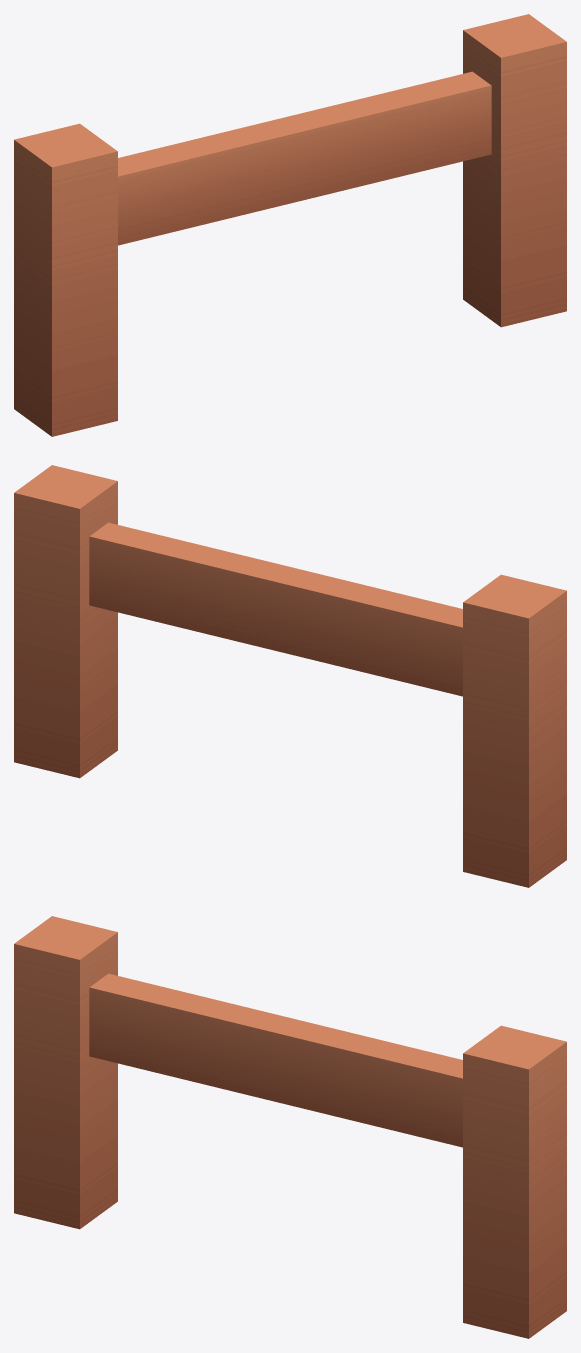
File: tower-defense-kit--wood-structure-part.glb
3 renders of one model, top to bottom at view 1: azimuth 30°, elevation 25°; view 2: azimuth 150°, elevation 25°; view 3: azimuth 330°, elevation 25°, orthographic.
Visible parts, largest first — view 1: wood-structure-part; view 2: wood-structure-part; view 3: wood-structure-part.
Boxes of the visible parts, x1,y1,x2,y2 form: wood-structure-part: [14, 14, 566, 436]; wood-structure-part: [14, 465, 566, 887]; wood-structure-part: [14, 916, 566, 1338].
Bounding box in the file's own units: 1 × 0.5 × 0.128.
Materials: 1 (1 with a texture image).
